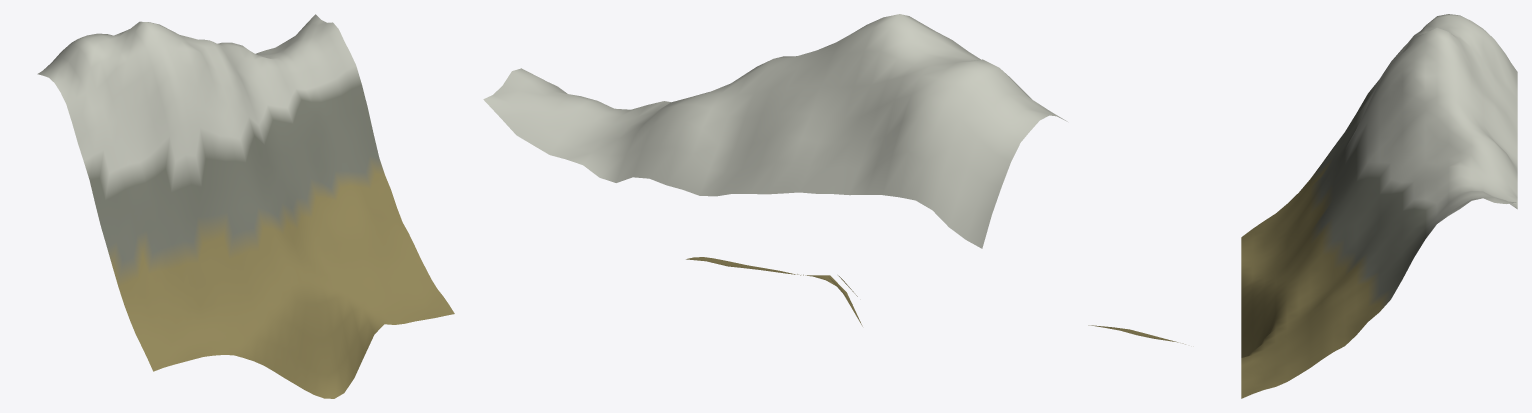
The picture shows the model from 3 angles, left to right: view 1: azimuth 30°, elevation 25°; view 2: azimuth 150°, elevation 25°; view 3: azimuth 270°, elevation 25°; orthographic projection. The views are drawn at different scales.
Parts seen in each view (by area): view 1: world-ground/210-24; view 2: world-ground/210-24; view 3: world-ground/210-24.
Part boxes in pixels (left/top/right/bottom): world-ground/210-24: left=37, top=14, right=454, bottom=398; world-ground/210-24: left=483, top=14, right=1185, bottom=344; world-ground/210-24: left=1241, top=14, right=1517, bottom=398.
Bounding box in the file's own units: 37.5 × 38.84 × 30.
